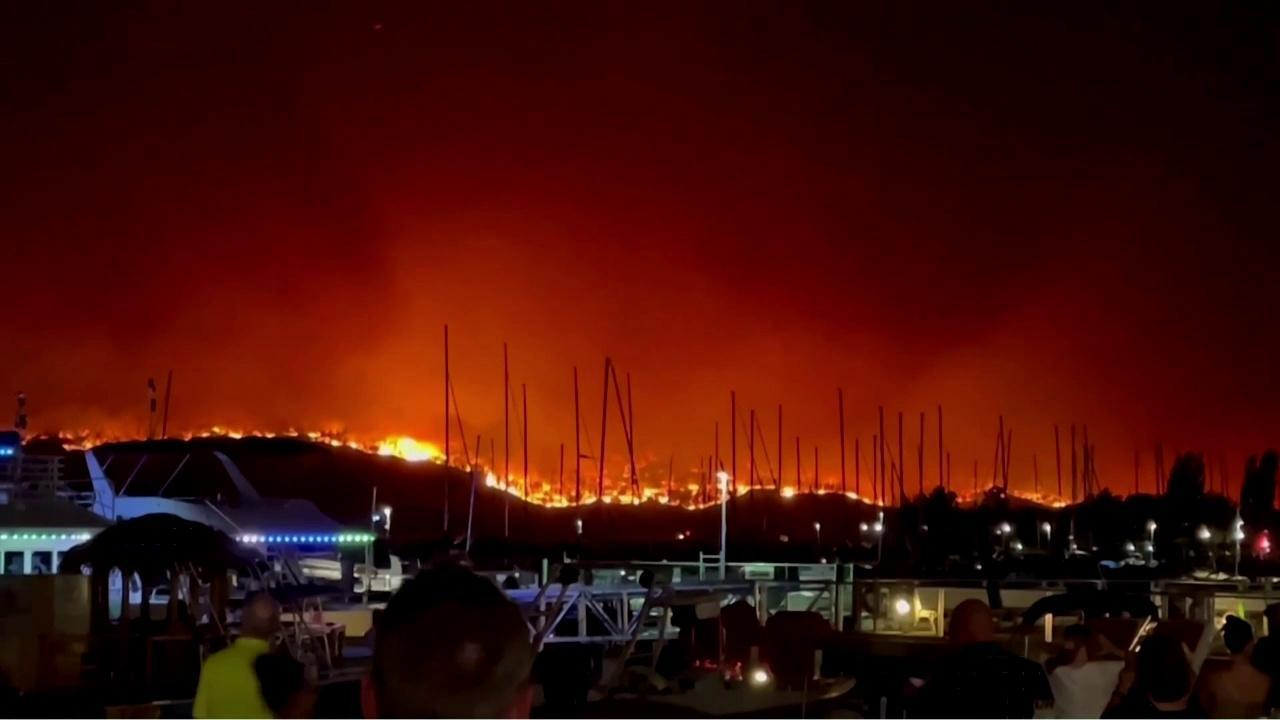fire: (466, 455, 891, 508), (19, 425, 449, 466), (954, 481, 1074, 509)
smoke: (0, 0, 1280, 511)
